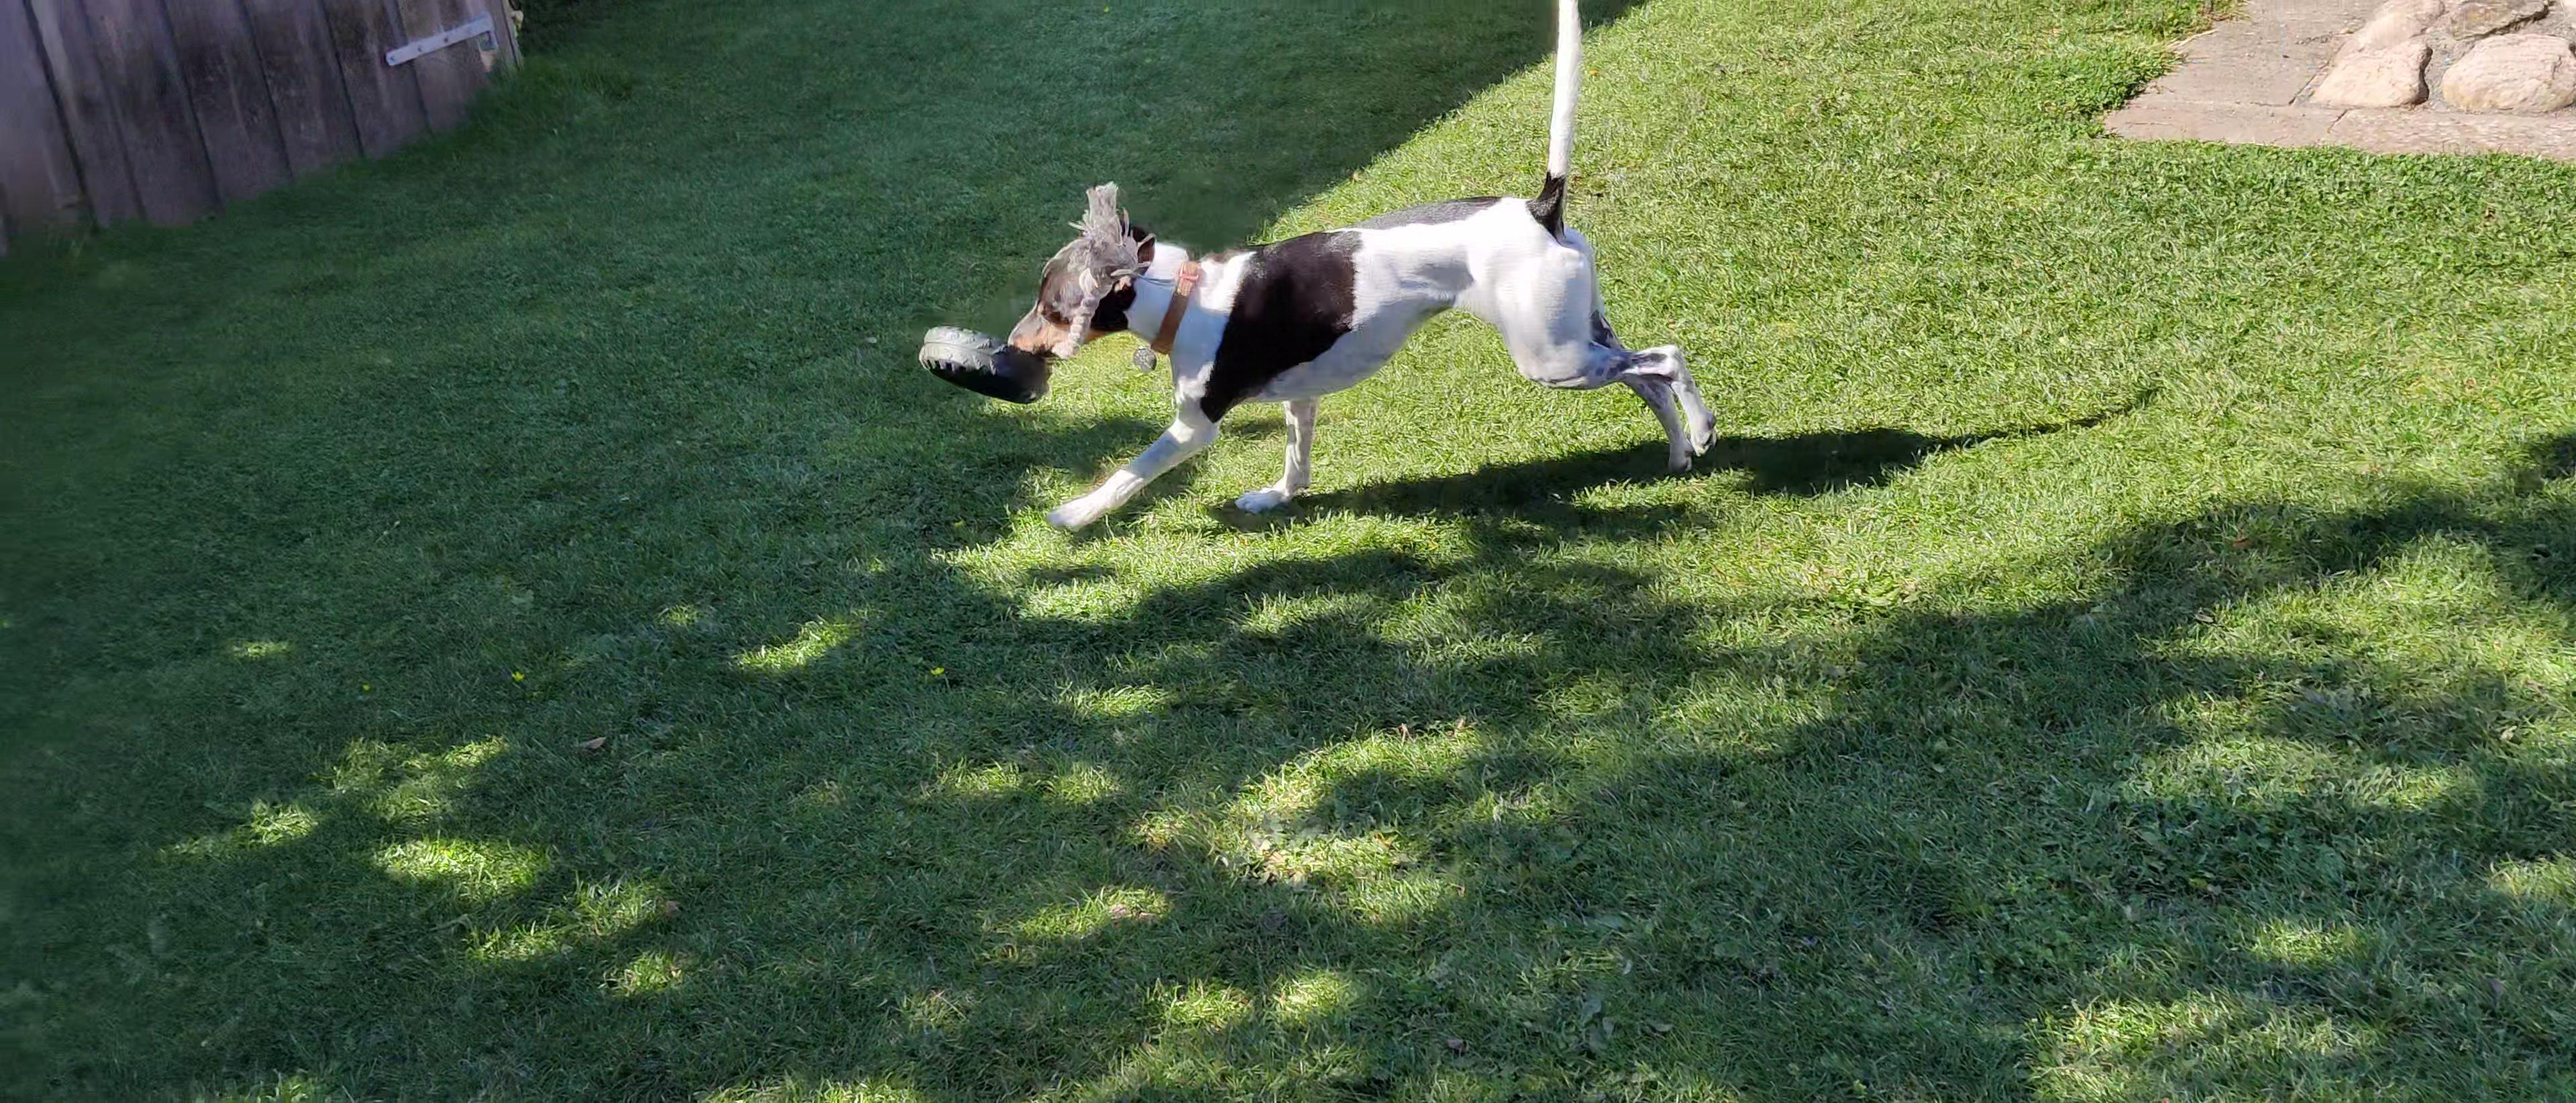Dog: (974, 0, 1738, 551)
